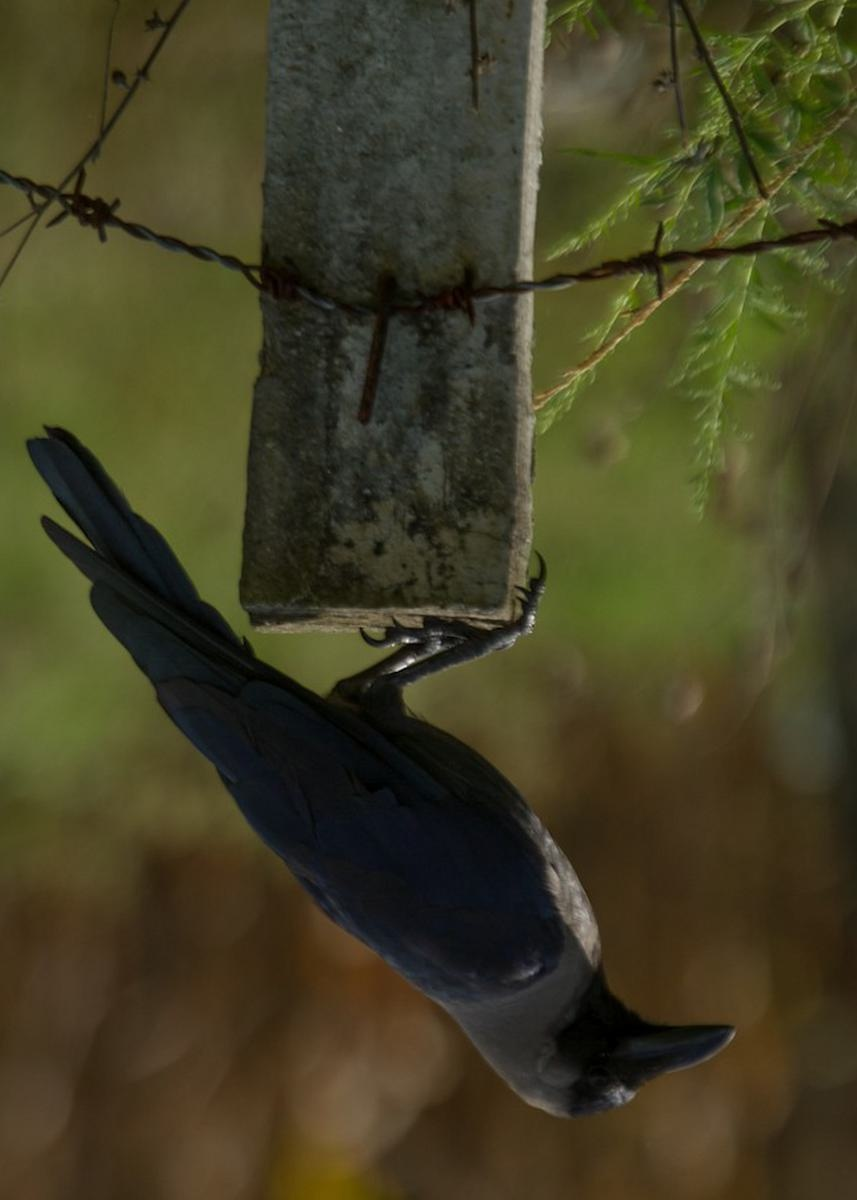crow: (2, 445, 751, 1126)
